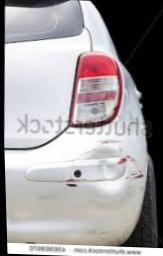Bumper: (60, 138, 147, 200)
